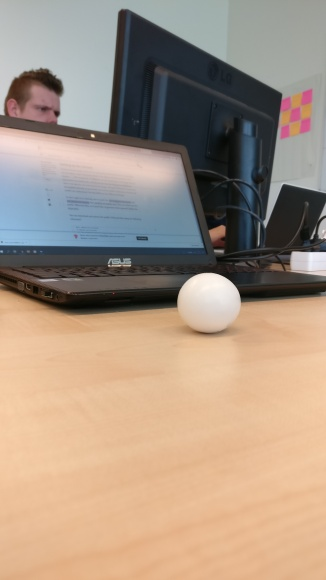egg: (176, 273, 242, 336)
